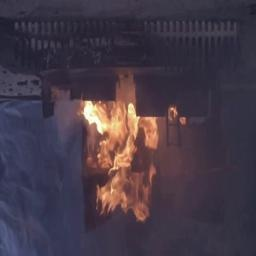fire: (81, 94, 163, 219)
